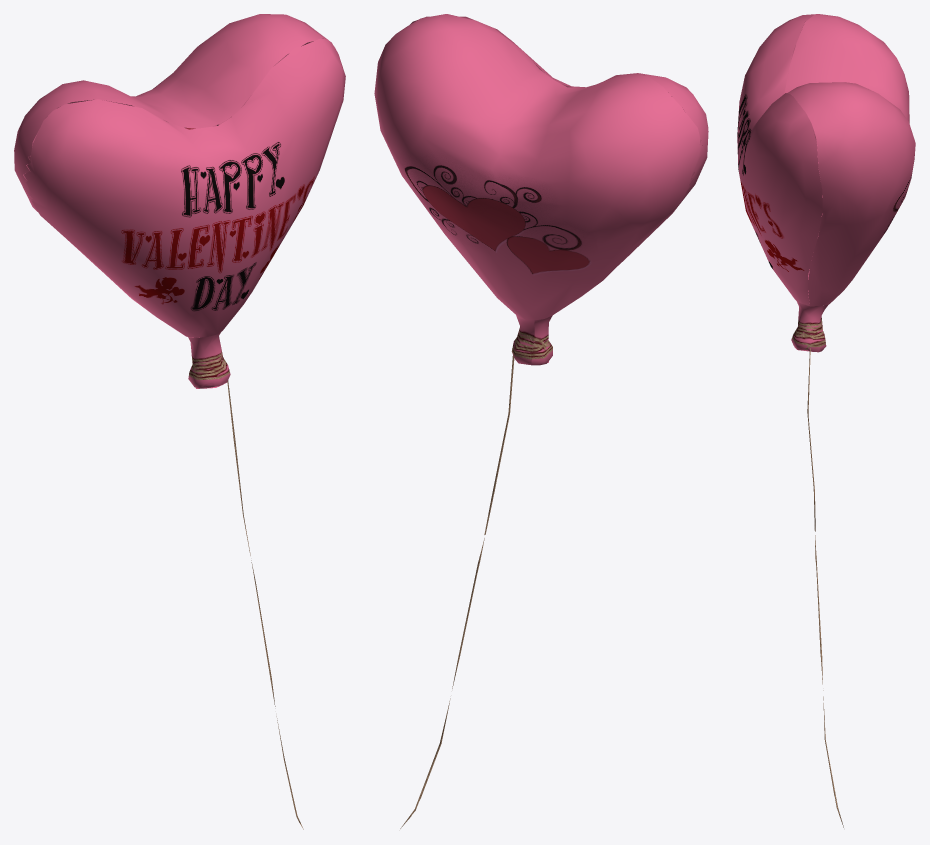
File: globo.glb
3 renders of one model, left to right at view 1: azimuth 30°, elevation 25°; view 2: azimuth 150°, elevation 25°; view 3: azimuth 270°, elevation 25°, orthographic. The views are drawn at different scales.
Parts seen in each view (by area): view 1: baloon1; view 2: baloon1; view 3: baloon1.
Boxes of the visible parts, left/top/right/bottom form: baloon1: left=14, top=14, right=345, bottom=829; baloon1: left=374, top=14, right=708, bottom=828; baloon1: left=737, top=14, right=915, bottom=827.
Size of the model in its own units: 5.52 by 13.89 by 3.09.
Materials: 1 (1 with a texture image).
